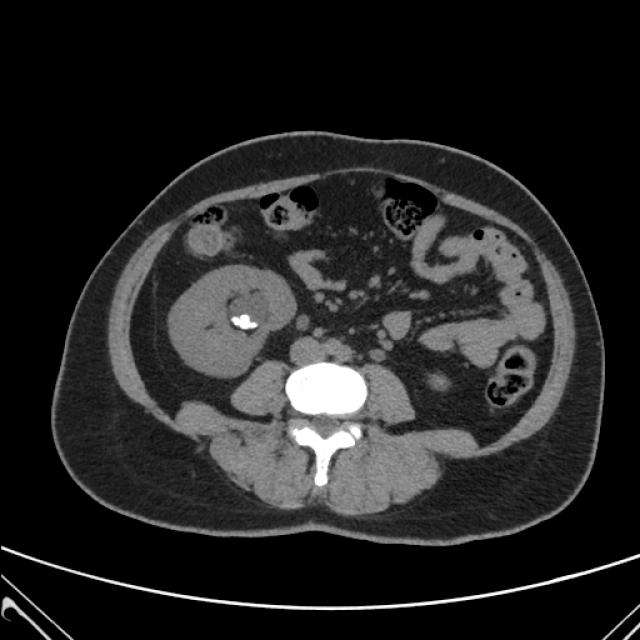kidney: (167, 265, 300, 381)
stone: (231, 311, 259, 329)
